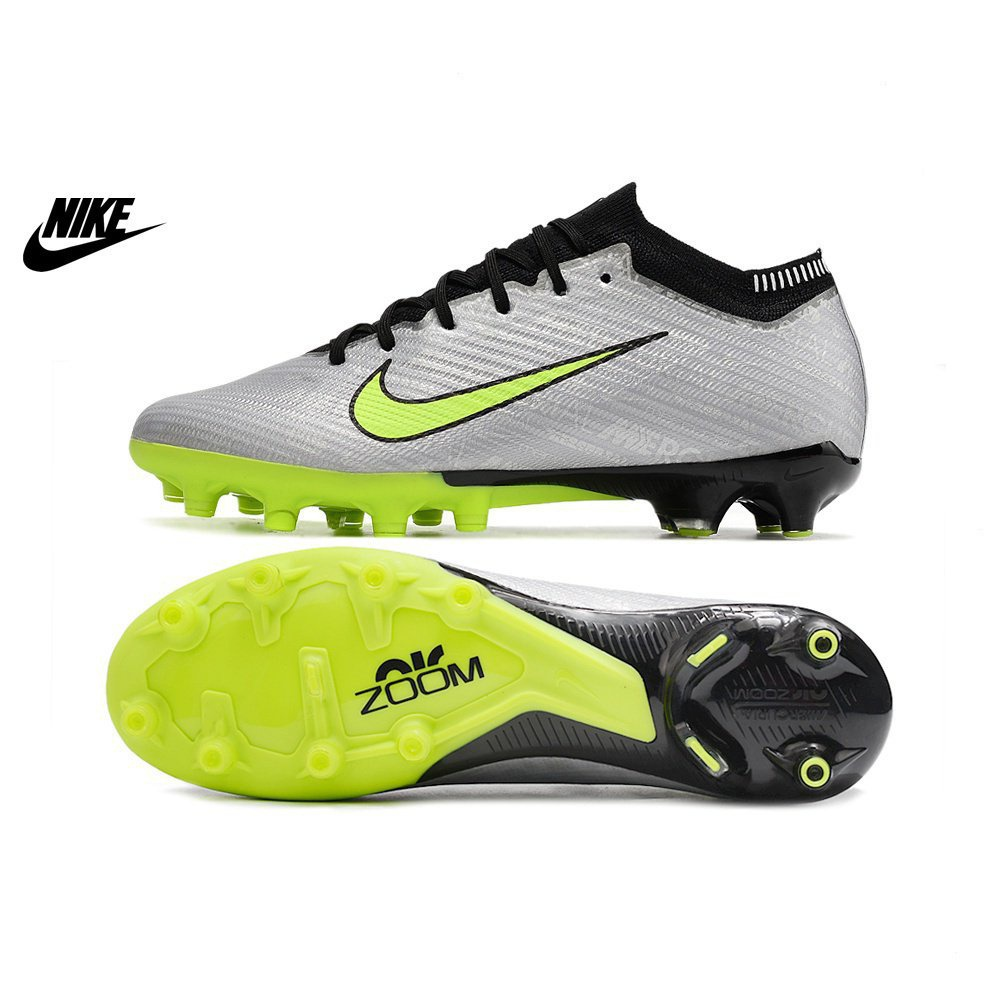soccer shoes: (128, 183, 869, 544), (104, 550, 894, 805)
